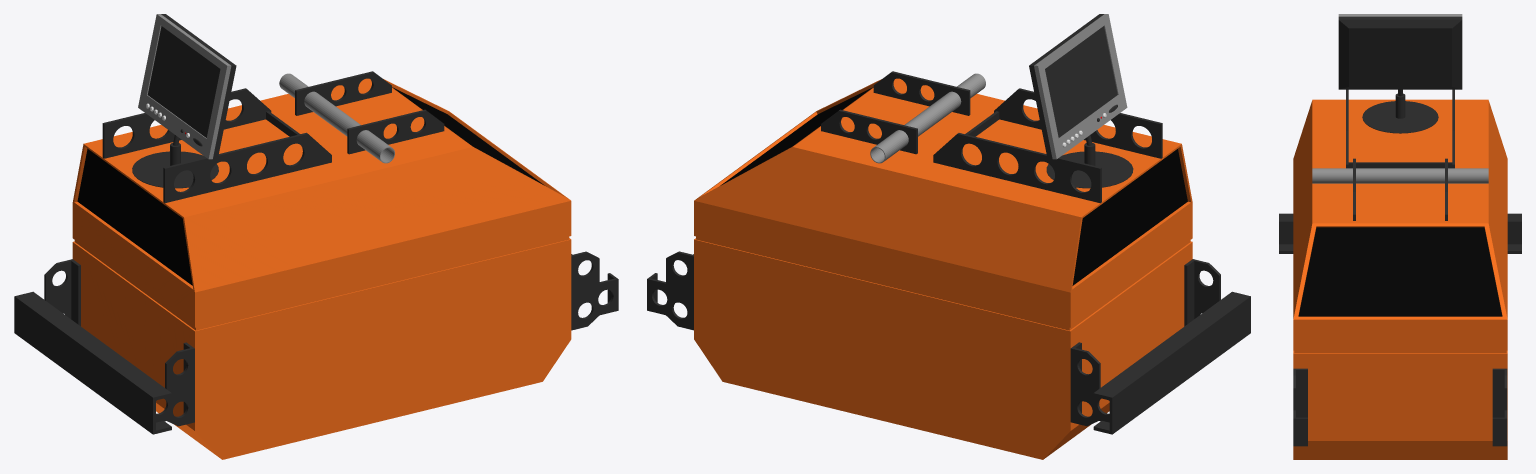
File: atrv_chassis.dae
The picture shows the model from 3 angles, left to right: view 1: azimuth 30°, elevation 25°; view 2: azimuth 150°, elevation 25°; view 3: azimuth 270°, elevation 25°; orthographic projection. The views are drawn at different scales.
Parts seen in each view (by area): view 1: Cube, Cube_014, Cube_001, Cube_008, Cube_003, Cube_007, Cube_002, Cube_012, Cylinder_004, Cube_011, Cube_004, Cube_005 (+3 smaller); view 2: Cube, Cube_014, Cube_001, Cube_008, Cube_002, Cube_007, Cube_003, Cube_013, Cylinder_004, Cube_010, Cube_004, Cube_005 (+3 smaller); view 3: Cube, Cube_001, Cube_009, Cylinder_004, Cylinder, Cube_013, Cube_014, Cube_012, Cube_006, Cube_007, Cylinder_001.
Boxes of the visible parts, x1,y1,x2,y2 form: Cube: (72, 78, 571, 459); Cube_014: (14, 291, 171, 434); Cube_001: (77, 87, 544, 285); Cube_008: (147, 26, 220, 137); Cube_003: (163, 132, 331, 203); Cube_007: (138, 14, 231, 159); Cube_002: (102, 88, 271, 158); Cube_012: (571, 251, 618, 330); Cylinder_004: (279, 73, 394, 163); Cube_011: (156, 342, 194, 426); Cube_004: (347, 109, 444, 154); Cube_005: (295, 71, 391, 115); Cube: (694, 78, 1192, 459); Cube_014: (1093, 291, 1250, 434); Cube_001: (720, 87, 1187, 285); Cube_008: (1045, 26, 1117, 137); Cube_002: (933, 133, 1101, 203); Cube_007: (1034, 14, 1127, 159); Cube_003: (994, 88, 1162, 158); Cube_013: (647, 251, 693, 330); Cylinder_004: (870, 73, 985, 163); Cube_010: (1070, 342, 1109, 426); Cube_004: (873, 71, 970, 115); Cube_005: (821, 109, 917, 154); Cube: (1293, 99, 1507, 459); Cube_001: (1298, 227, 1502, 316); Cube_009: (1338, 16, 1462, 89); Cylinder_004: (1312, 168, 1488, 183); Cylinder: (1362, 101, 1438, 133); Cube_013: (1492, 368, 1507, 446); Cube_014: (1279, 213, 1521, 253); Cube_012: (1293, 368, 1307, 446); Cube_006: (1348, 162, 1452, 168); Cube_007: (1338, 14, 1462, 16); Cylinder_001: (1395, 93, 1405, 118).
Bounding box in the file's own units: 1.01 × 0.51 × 0.7466.
